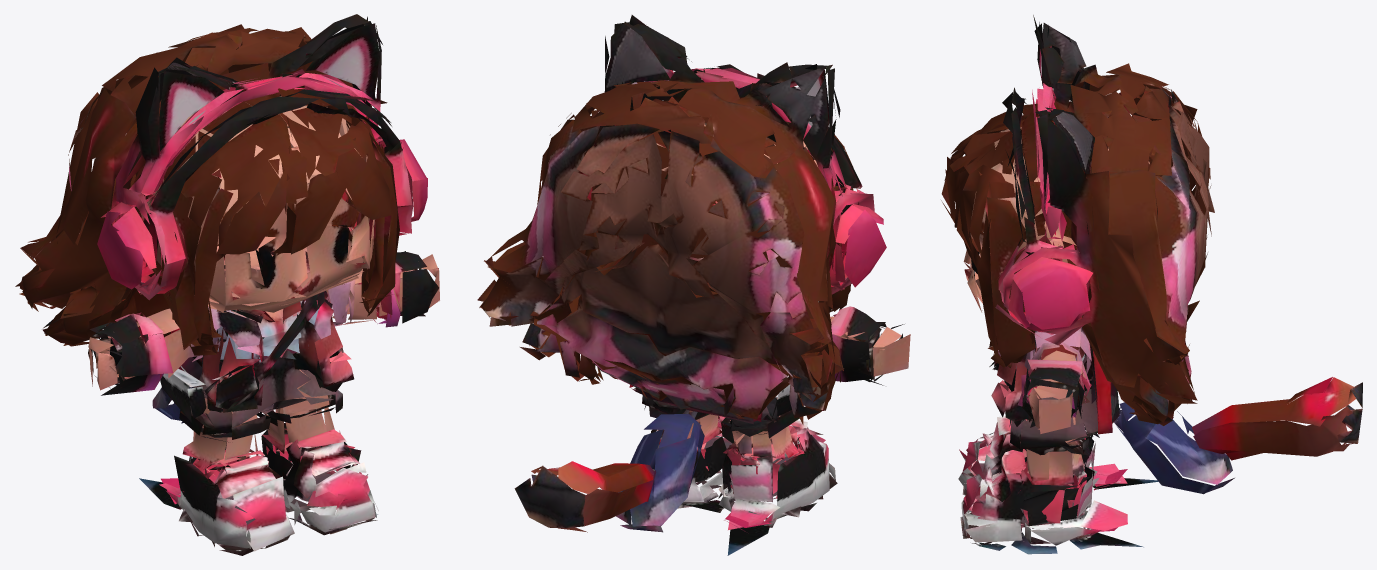
Rendered from rae_game.glb.
3 renders of one model, left to right at view 1: azimuth 30°, elevation 25°; view 2: azimuth 150°, elevation 25°; view 3: azimuth 270°, elevation 25°, orthographic. The views are drawn at different scales.
Parts seen in each view (by area): view 1: Body; view 2: Body; view 3: Body.
Part boxes in pixels (<box>): Body: <box>15,14,439,555</box>; Body: <box>477,15,910,555</box>; Body: <box>941,15,1362,554</box>.
Bounding box in the file's own units: 0.5736 × 0.7339 × 0.6175.
Materials: 1 (1 with a texture image).
